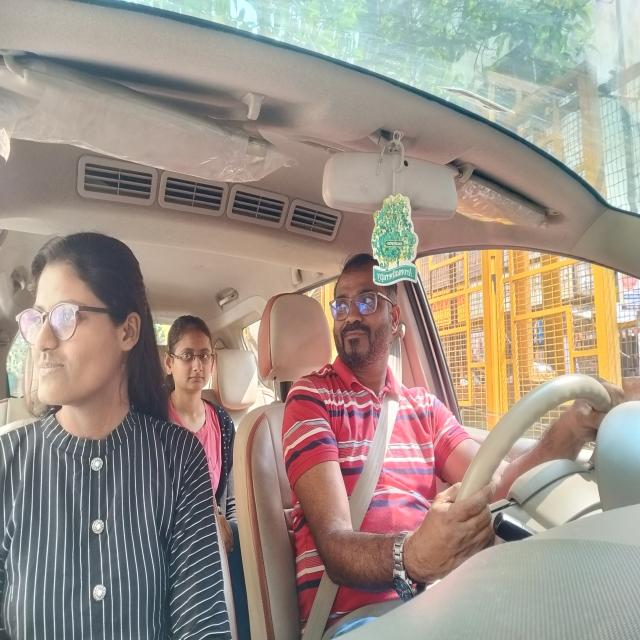LeftRight: (332, 250, 402, 377)
person: (18, 232, 148, 443), (167, 311, 214, 407)
